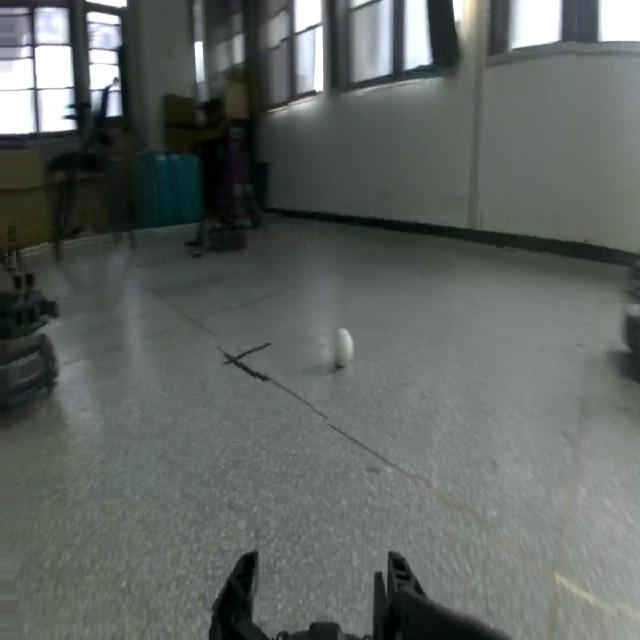ball1: (329, 326, 354, 372)
